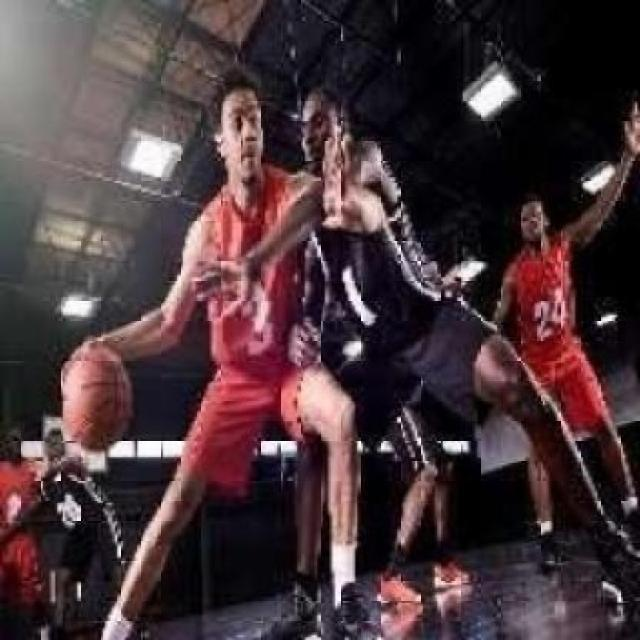ball: (58, 342, 137, 449)
person: (195, 74, 640, 640), (55, 60, 392, 640), (487, 96, 640, 576), (37, 426, 132, 640), (0, 424, 49, 640)
